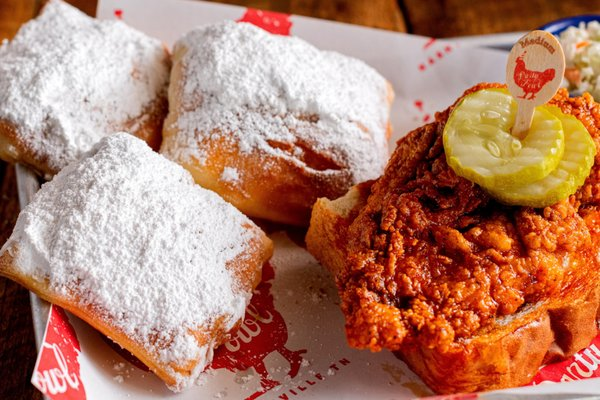pasta: (442, 85, 599, 209)
soup: (0, 133, 275, 389)
